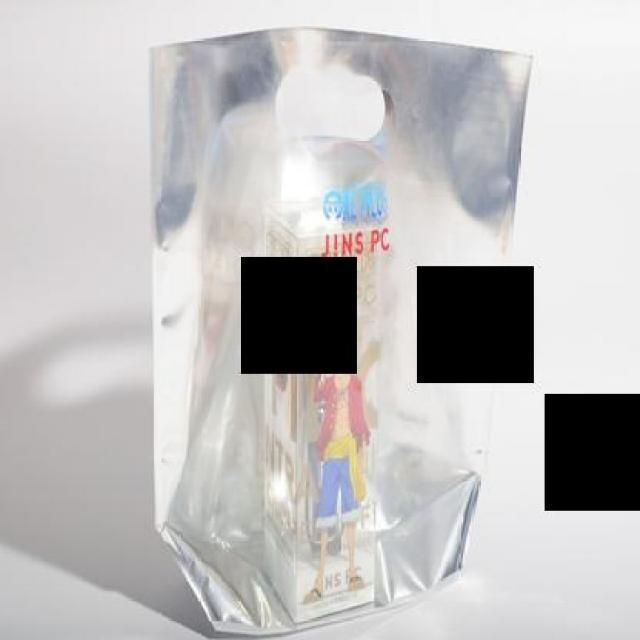plastic bag: (143, 23, 540, 635)
